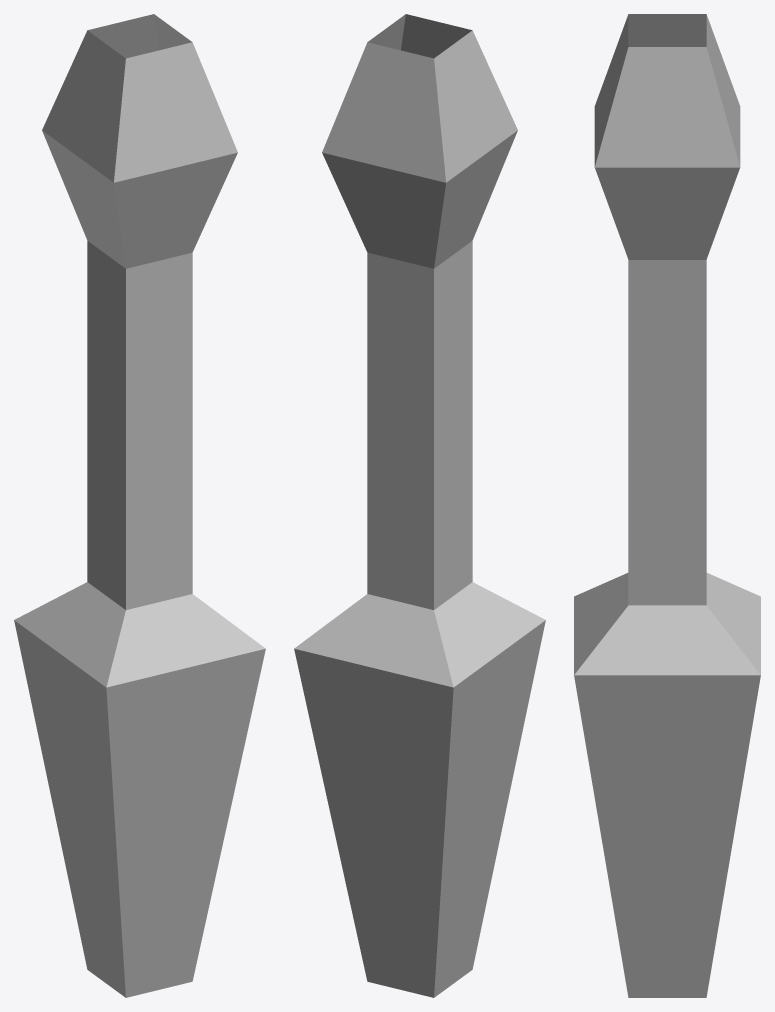
The model's file is Itr_Table_Leg_06.FBX.
3 views of the same model, side by side, from view 1: azimuth 30°, elevation 25°; view 2: azimuth 150°, elevation 25°; view 3: azimuth 270°, elevation 25° (orthographic).
Visible parts, largest first — view 1: Itr_Table_Leg_06; view 2: Itr_Table_Leg_06; view 3: Itr_Table_Leg_06.
Part boxes in pixels (x1=…): Itr_Table_Leg_06: x1=14, y1=14, x2=265, y2=997; Itr_Table_Leg_06: x1=294, y1=14, x2=545, y2=997; Itr_Table_Leg_06: x1=574, y1=14, x2=760, y2=997.
Size of the model in its own units: 4.88 by 27.48 by 4.9.
